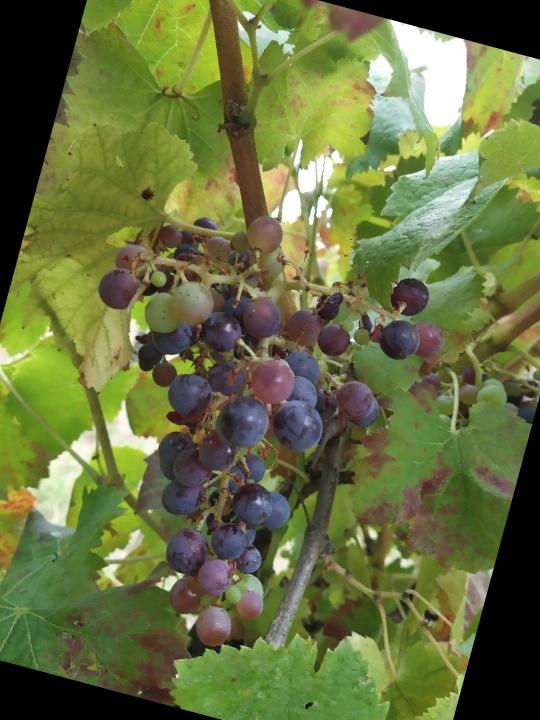grape: (18, 175, 461, 686)
